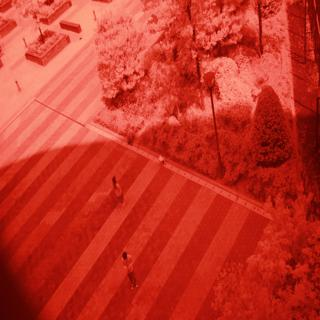person: (117, 244, 144, 295), (104, 169, 127, 211)
